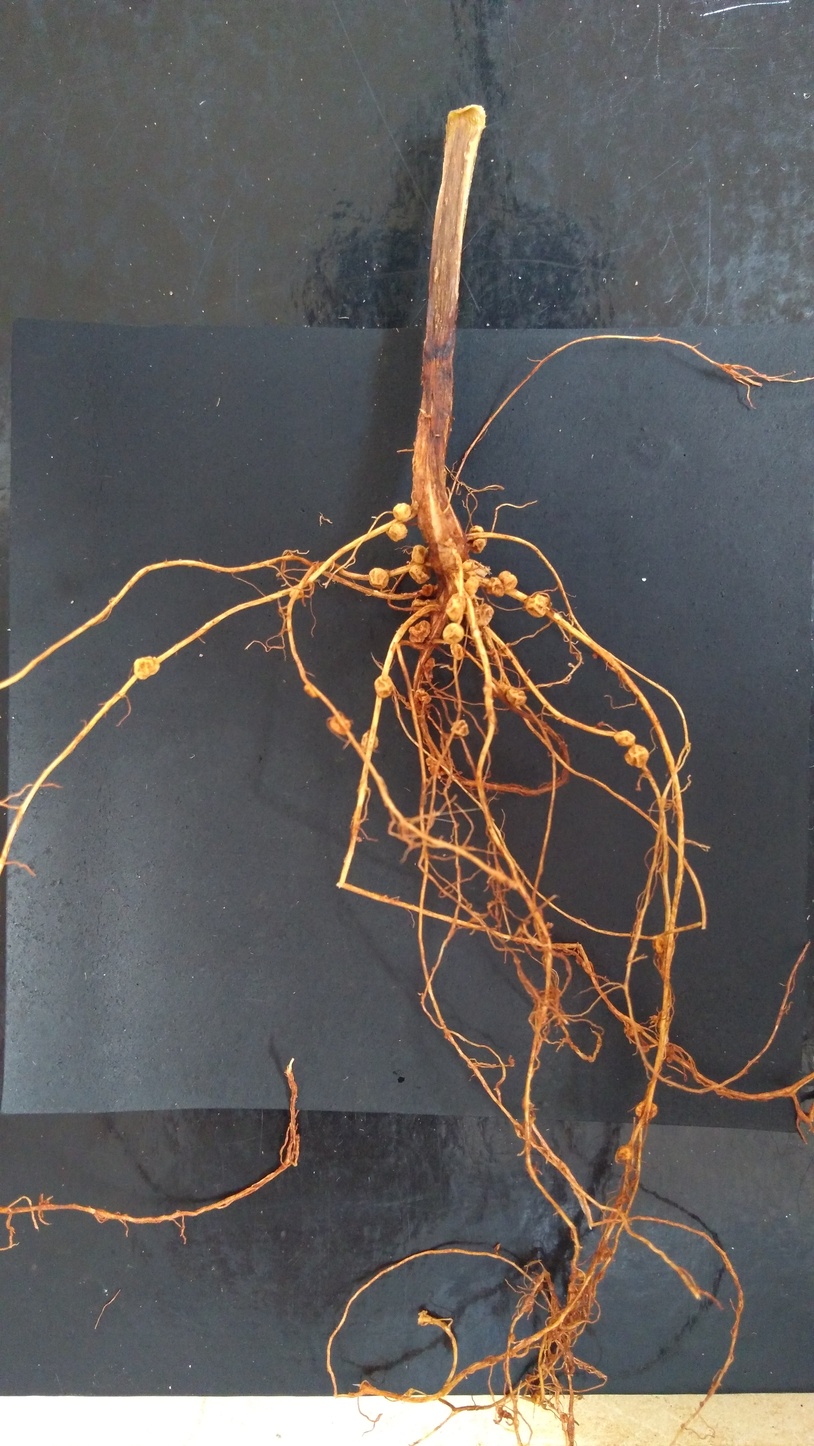nodule: (131, 653, 161, 682), (326, 710, 353, 738), (460, 557, 490, 582), (444, 592, 467, 624), (623, 743, 650, 770), (524, 593, 550, 619), (371, 672, 395, 700), (408, 619, 432, 645), (440, 622, 466, 646), (472, 602, 495, 628), (634, 1098, 660, 1121), (358, 728, 380, 754), (408, 563, 432, 586), (408, 598, 434, 619), (368, 566, 390, 590), (497, 569, 519, 593), (504, 686, 529, 707), (611, 729, 638, 748), (386, 522, 409, 543), (485, 575, 505, 599), (463, 574, 482, 597), (449, 718, 471, 737), (392, 501, 412, 521), (410, 544, 429, 564), (615, 1143, 634, 1163), (470, 535, 488, 556), (652, 935, 666, 957), (449, 642, 464, 662), (425, 755, 440, 775), (303, 683, 320, 699), (414, 687, 430, 702), (467, 524, 486, 536), (289, 588, 305, 600), (421, 583, 433, 597), (423, 657, 437, 668)
